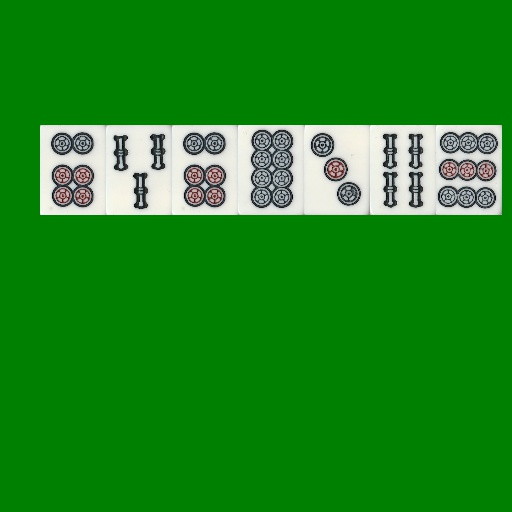3p: (304, 125, 370, 215)
3s: (106, 125, 172, 215)
4s: (370, 125, 436, 215)
6p: (40, 125, 106, 215), (172, 125, 238, 215)
8p: (238, 125, 304, 215)
9p: (436, 125, 502, 215)
